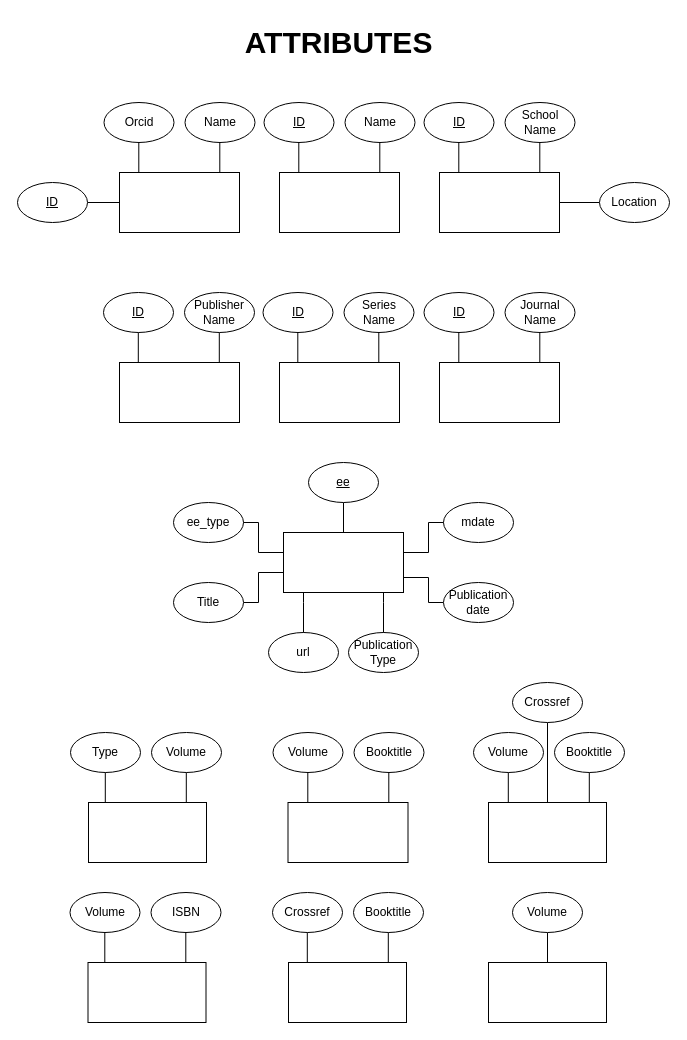
Some shapes in this 687 by 1040 pixel diagram are drawn without their labels. Each missing label, with the centre of its shape:
"Article" goes at pixel 547 992.
"Author" goes at pixel 179 202.
"Book" goes at pixel 146 992.
"Divulgation" goes at pixel 343 562.
"Editor" goes at pixel 339 202.
"Incollection" goes at pixel 347 992.
"Inproceedings" goes at pixel 547 832.
"Journal" goes at pixel 499 392.
"Proceedings" goes at pixel 347 832.
"Publisher" goes at pixel 179 392.
"School" goes at pixel 499 202.
"Series" goes at pixel 339 392.
"Thesis" goes at pixel 147 832.
